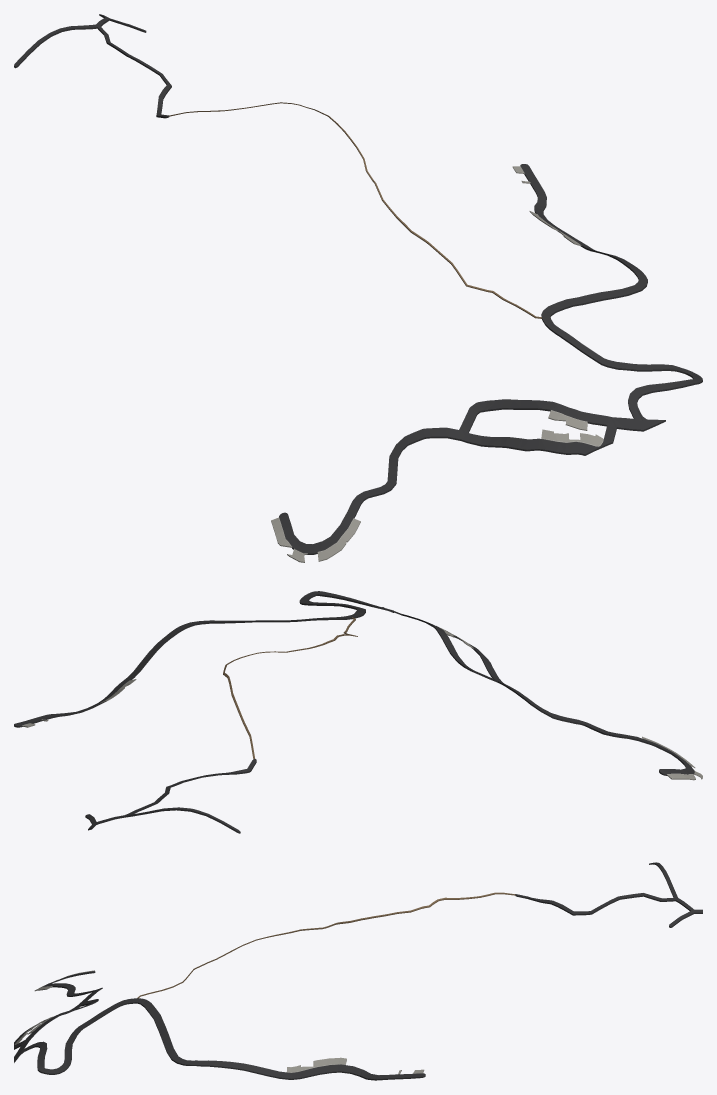
The picture shows the model from 3 angles, top to bottom: view 1: azimuth 30°, elevation 25°; view 2: azimuth 150°, elevation 25°; view 3: azimuth 270°, elevation 25°; orthographic projection. The views are drawn at different scales.
Size of the model in its own units: 367 by 167 by 583.
